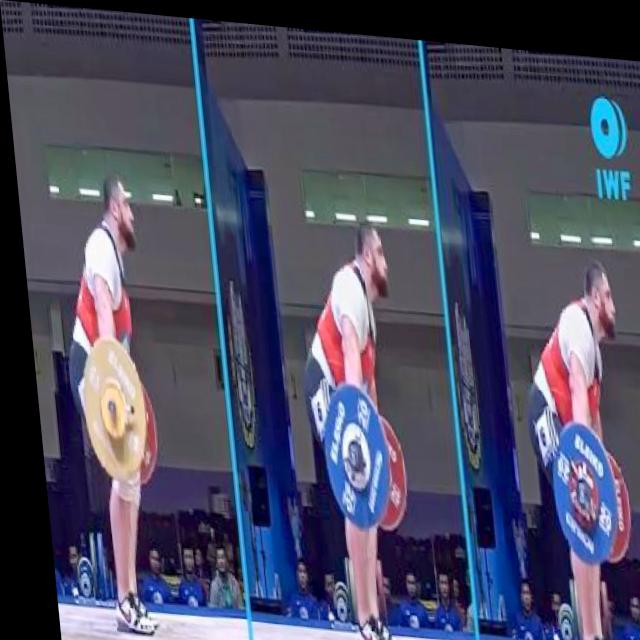barbell: (308, 372, 390, 526), (534, 402, 613, 557), (69, 330, 147, 486)
